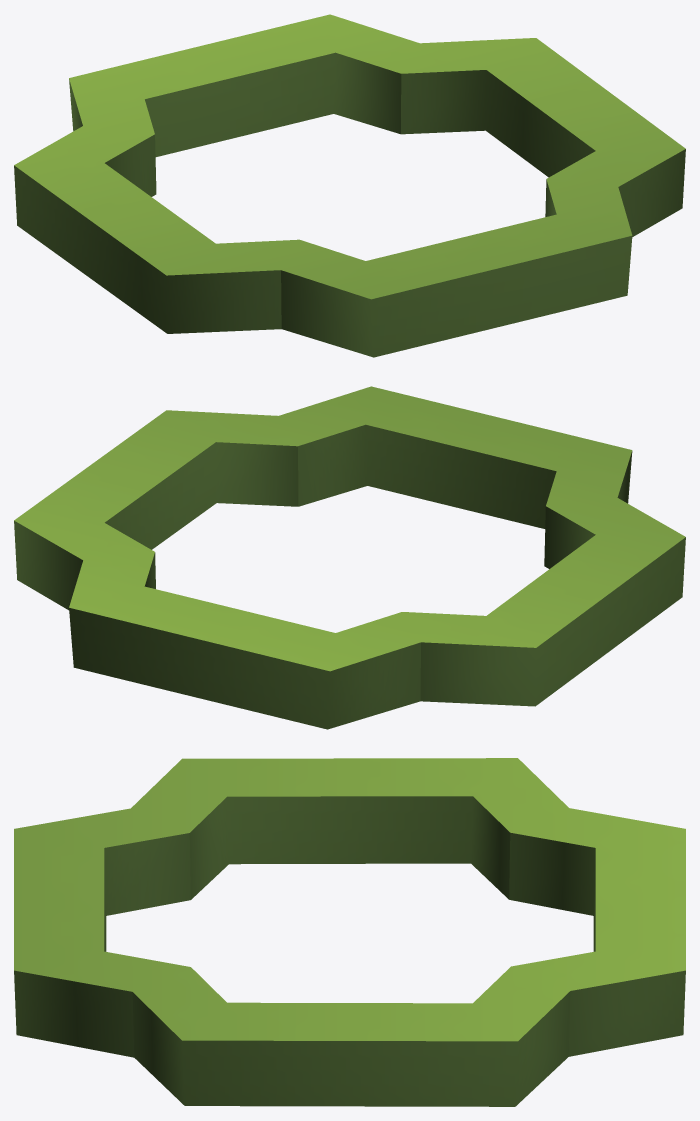
The model's file is paprika_green_slice.fbx.
The picture shows the model from 3 angles, top to bottom: view 1: azimuth 30°, elevation 25°; view 2: azimuth 150°, elevation 25°; view 3: azimuth 270°, elevation 25°; orthographic projection. The views are drawn at different scales.
Visible parts, largest first — view 1: paprika_green_slice; view 2: paprika_green_slice; view 3: paprika_green_slice.
Part boxes in pixels (bbox=[...]): paprika_green_slice: bbox=[14, 14, 685, 357]; paprika_green_slice: bbox=[14, 386, 685, 729]; paprika_green_slice: bbox=[14, 758, 685, 1106].
Bounding box in the file's own units: 22.67 × 2.49 × 22.73.
